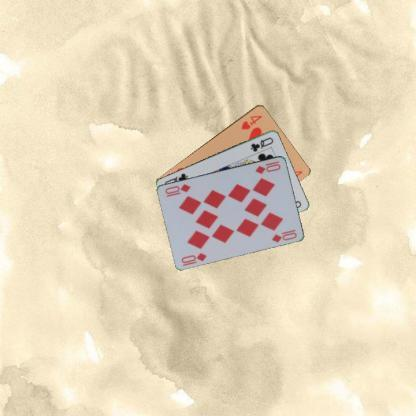10d: (253, 158, 282, 175), (179, 250, 208, 267)
4h: (238, 113, 263, 130)
Qc: (247, 134, 274, 152)
